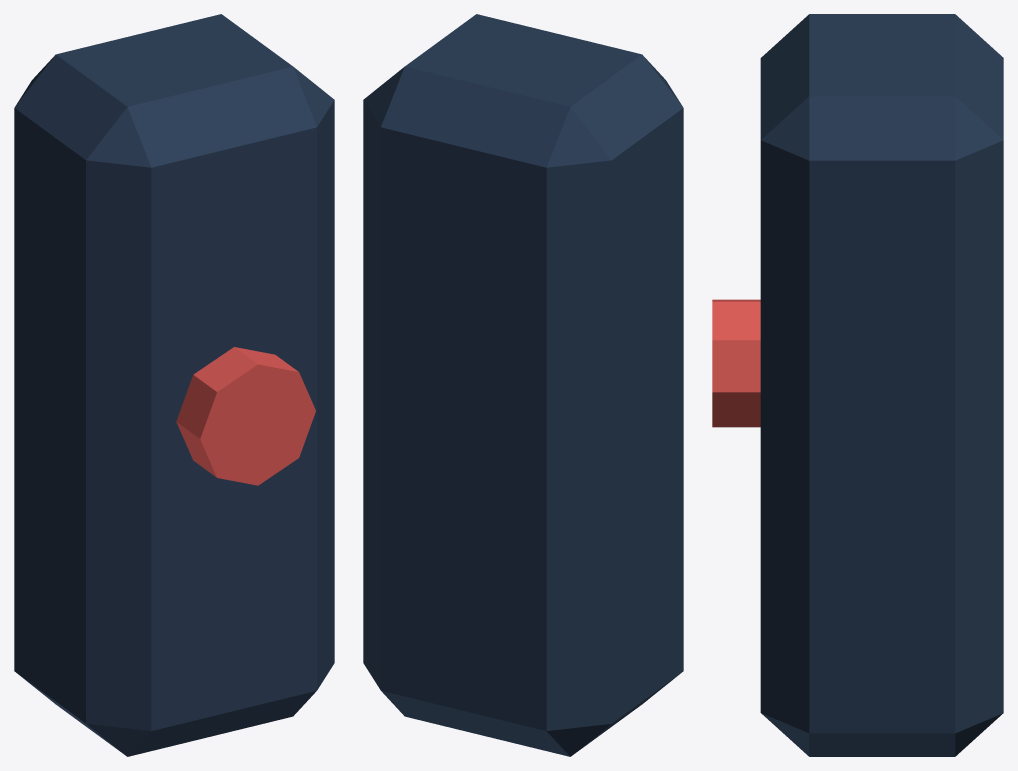
File: Prop_LaserEmitter.fbx
The picture shows the model from 3 angles, left to right: view 1: azimuth 30°, elevation 25°; view 2: azimuth 150°, elevation 25°; view 3: azimuth 270°, elevation 25°; orthographic projection.
Parts seen in each view (by area): view 1: Emitter, Lens.001; view 2: Emitter; view 3: Emitter, Lens.001.
Part boxes in pixels (<box>): Emitter: <box>14,14,334,756</box>; Lens.001: <box>176,347,315,485</box>; Emitter: <box>363,14,683,756</box>; Emitter: <box>760,14,1003,756</box>; Lens.001: <box>712,299,760,427</box>.
Bounding box in the file's own units: 0.12 × 0.3 × 0.12.
